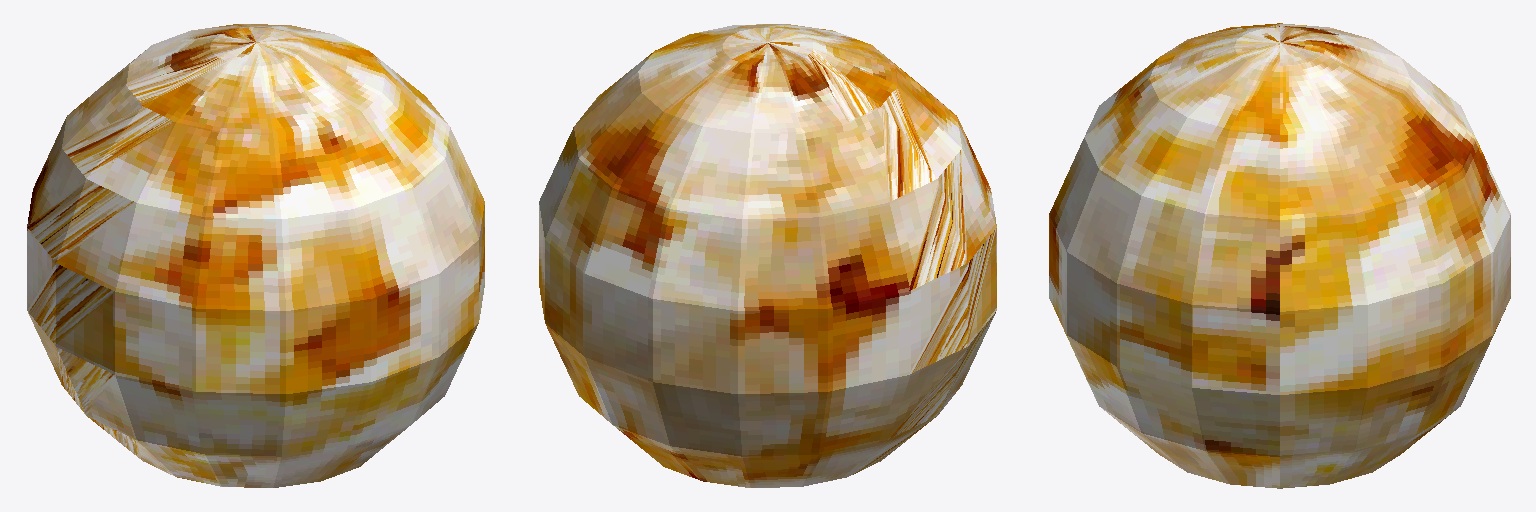
3 views of the same model, side by side, from view 1: azimuth 30°, elevation 25°; view 2: azimuth 150°, elevation 25°; view 3: azimuth 270°, elevation 25° (orthographic).
Parts seen in each view (by area): view 1: Esfera; view 2: Esfera; view 3: Esfera.
Part boxes in pixels (x1,y1,x2,y2): Esfera: (27,24,484,487); Esfera: (539,24,996,487); Esfera: (1049,23,1510,488).
Size of the model in its own units: 1.96 by 2 by 1.96.
Materials: 1 (1 with a texture image).